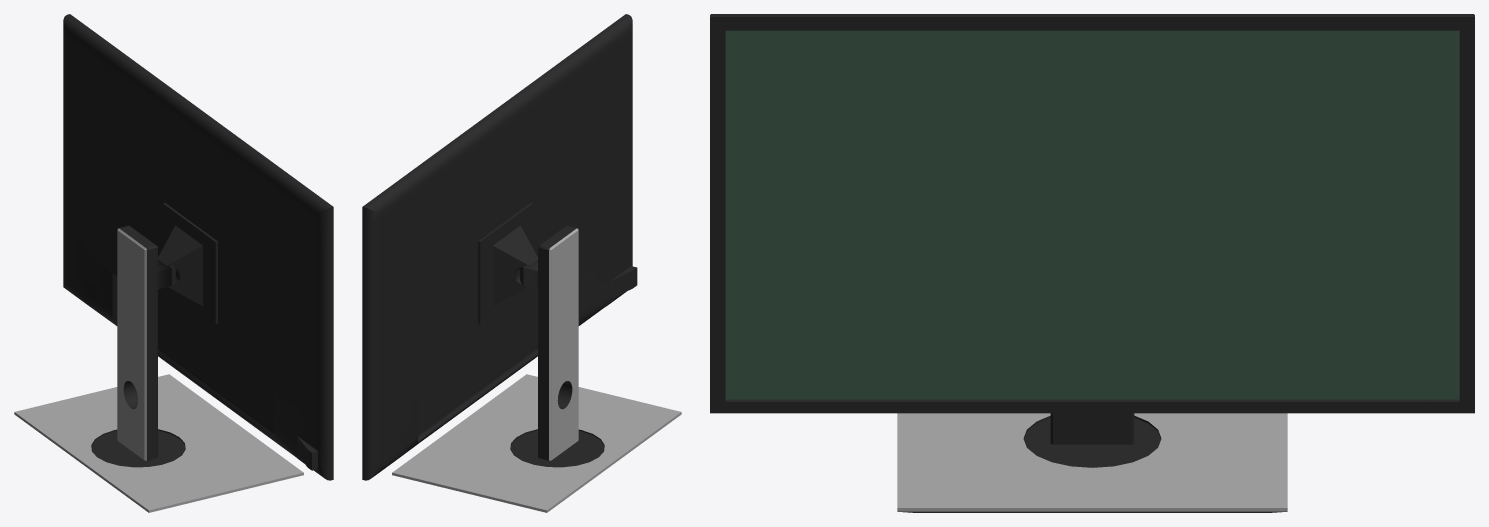
File: monitorFixed2.fbx
The picture shows the model from 3 angles, left to right: view 1: azimuth 30°, elevation 25°; view 2: azimuth 150°, elevation 25°; view 3: azimuth 270°, elevation 25°; orthographic projection. The views are drawn at different scales.
Visible parts, largest first — view 1: monitor; view 2: monitor; view 3: monitor.
Boxes of the visible parts, x1,y1,x2,y2 form: monitor: [14, 14, 333, 512]; monitor: [362, 14, 681, 512]; monitor: [710, 14, 1474, 512].
Size of the model in its own units: 15.37 by 31.22 by 45.29.
